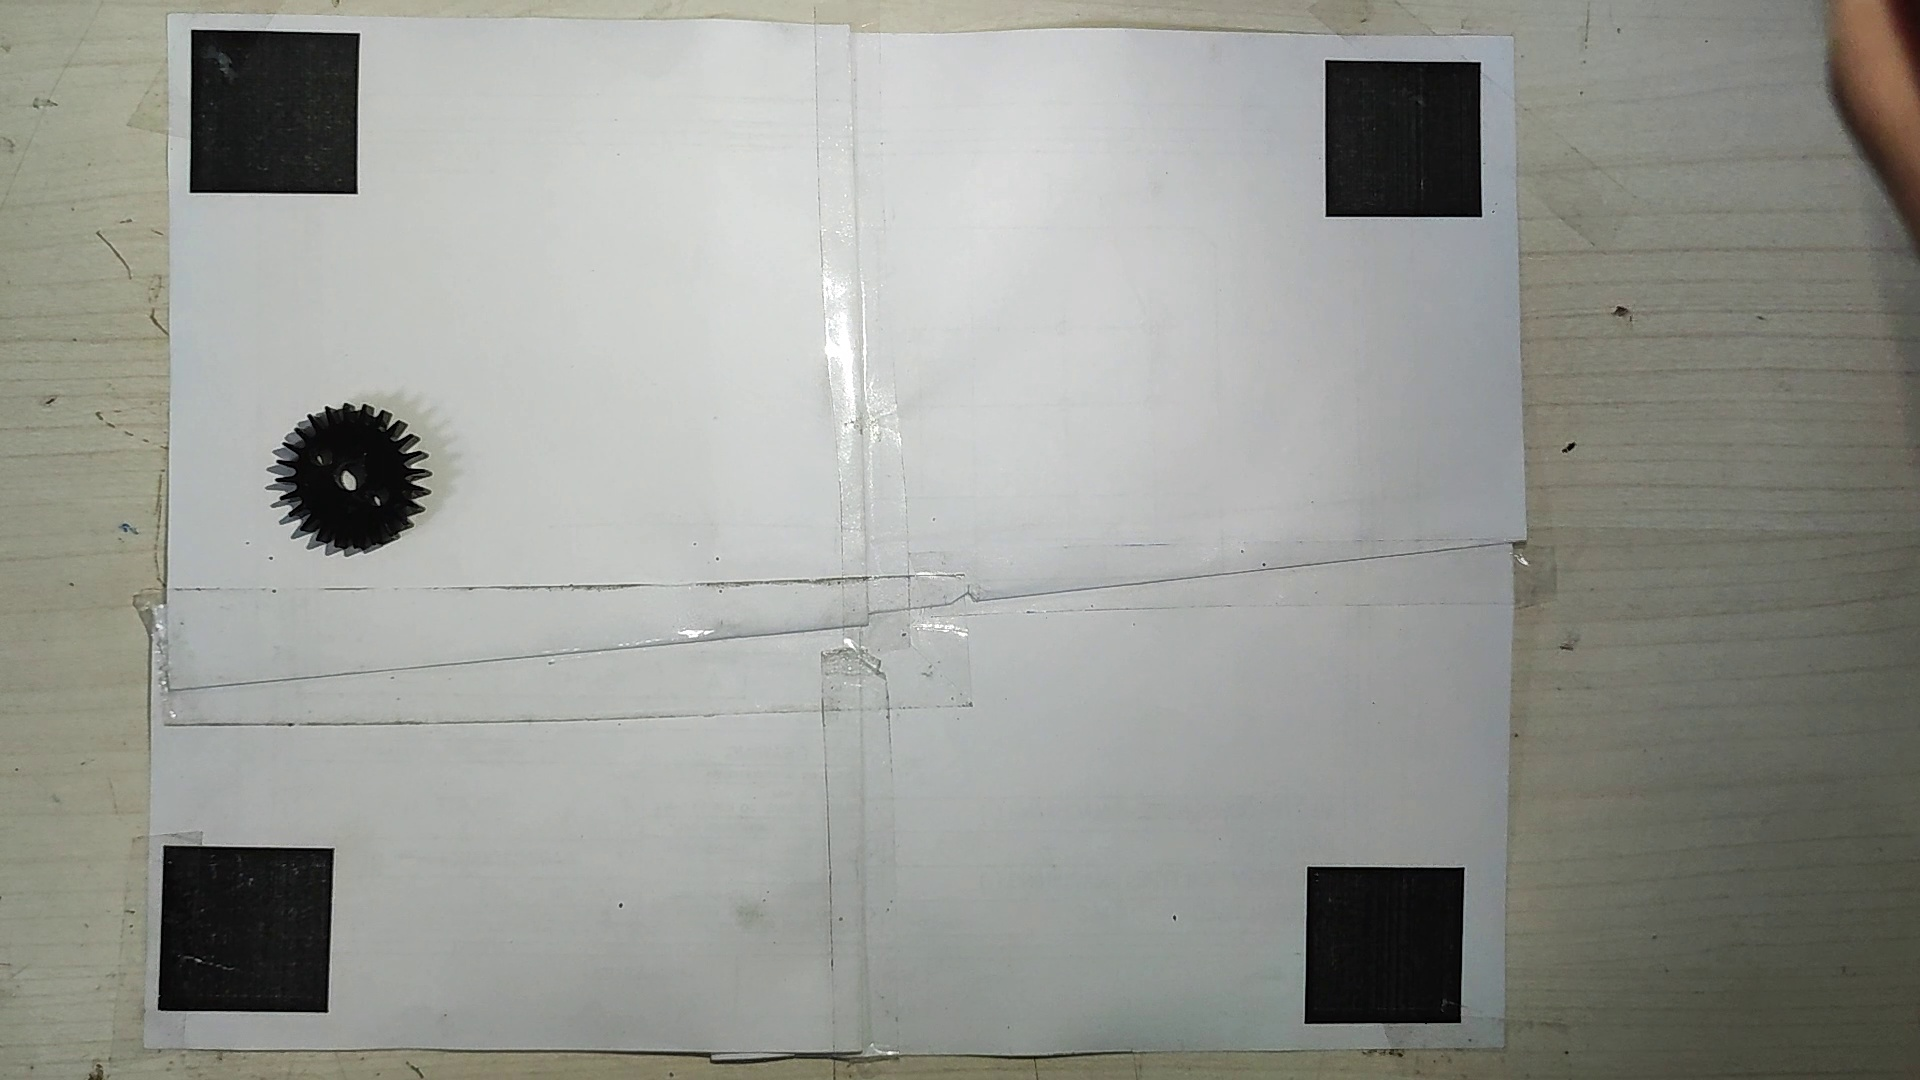Gear: (272, 397, 435, 558)
